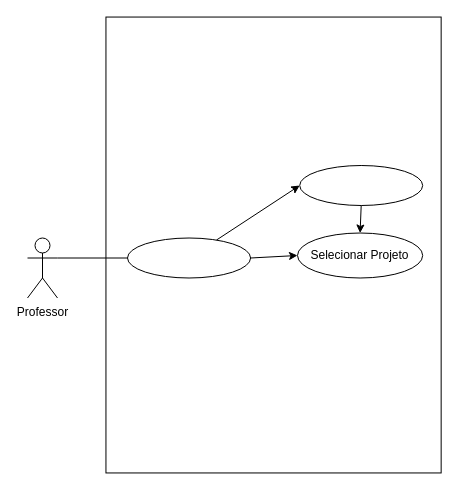
Some shapes in this 459 by 491 pixel diagram are drawn without their labels. Here are the shapes that lost their labels. From the top down, the box of each, then its label:
(299, 164, 423, 206): Pesquisar projetos
(126, 237, 251, 278): Tela inicial
